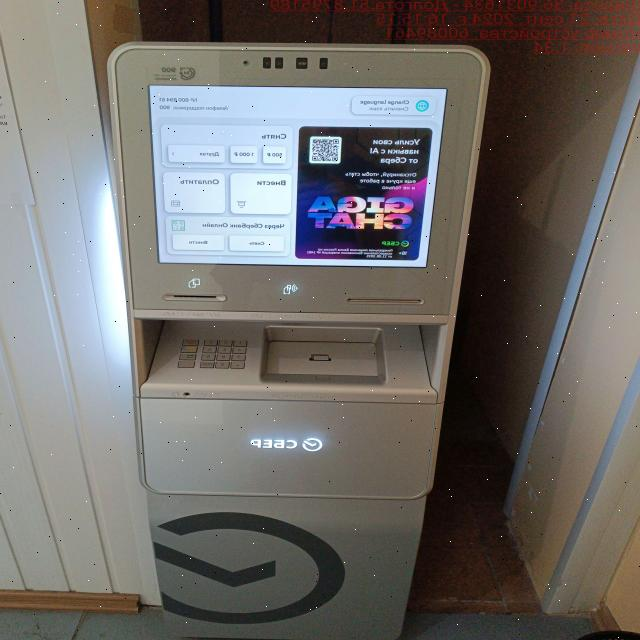bank: (110, 35, 488, 640)
